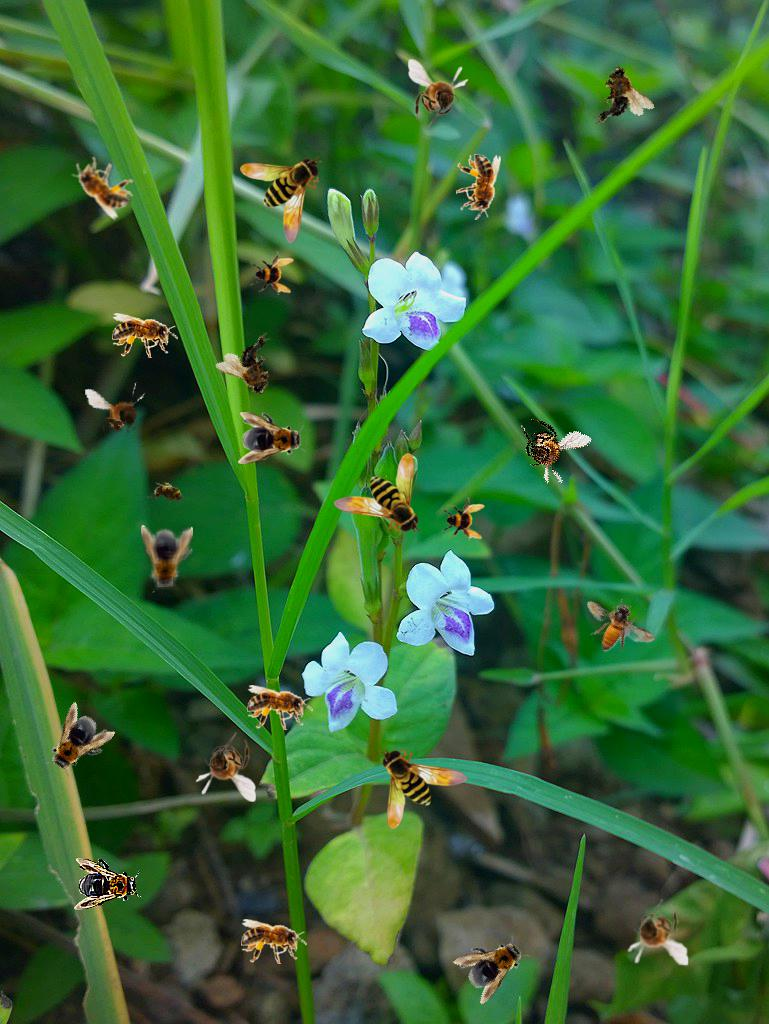Bee: (502, 407, 593, 493), (573, 582, 657, 669), (451, 922, 537, 1006), (333, 453, 421, 535), (240, 156, 322, 244), (380, 747, 468, 829), (35, 701, 117, 787), (82, 371, 161, 457), (213, 328, 294, 408), (62, 147, 142, 222), (581, 59, 656, 129), (621, 896, 690, 972), (195, 732, 256, 802), (408, 59, 469, 129), (141, 525, 193, 593), (74, 858, 142, 910), (238, 412, 306, 464), (241, 919, 307, 964), (456, 154, 501, 220), (247, 685, 313, 730), (112, 313, 178, 358), (441, 497, 485, 541), (250, 251, 294, 295), (146, 477, 192, 511)
